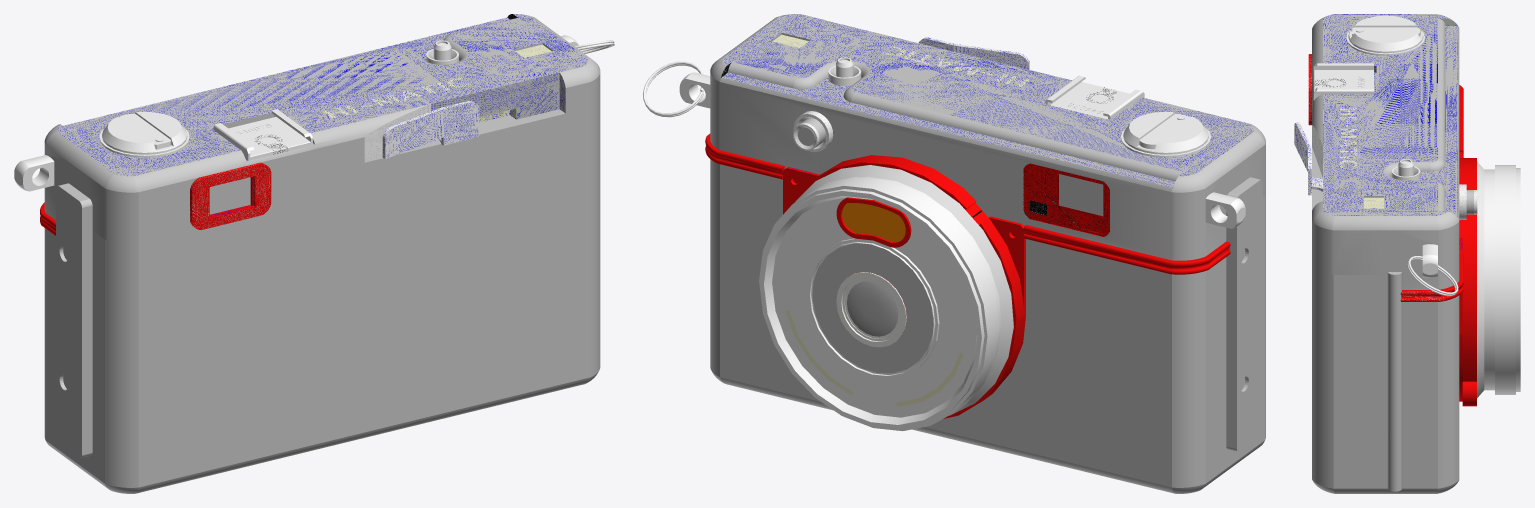
3 renders of one model, left to right at view 1: azimuth 30°, elevation 25°; view 2: azimuth 150°, elevation 25°; view 3: azimuth 270°, elevation 25°, orthographic. The views are drawn at different scales.
Visible parts, largest first — view 1: mesh40_mesh40-geometry; view 2: mesh40_mesh40-geometry, mesh1_mesh1-geometry, mesh30_mesh30-geometry, mesh37_mesh37-geometry; view 3: mesh40_mesh40-geometry, mesh1_mesh1-geometry, mesh30_mesh30-geometry, mesh37_mesh37-geometry.
Part boxes in pixels (x1,y1,x2,y2): mesh40_mesh40-geometry: [14, 14, 600, 493]; mesh40_mesh40-geometry: [705, 14, 1265, 493]; mesh1_mesh1-geometry: [759, 177, 999, 431]; mesh30_mesh30-geometry: [679, 72, 710, 108]; mesh37_mesh37-geometry: [643, 61, 703, 117]; mesh40_mesh40-geometry: [1294, 14, 1494, 493]; mesh1_mesh1-geometry: [1495, 165, 1520, 394]; mesh30_mesh30-geometry: [1422, 244, 1437, 277]; mesh37_mesh37-geometry: [1407, 256, 1458, 296].
Bounding box in the file's own units: 0.8383 × 0.4439 × 0.3167.
